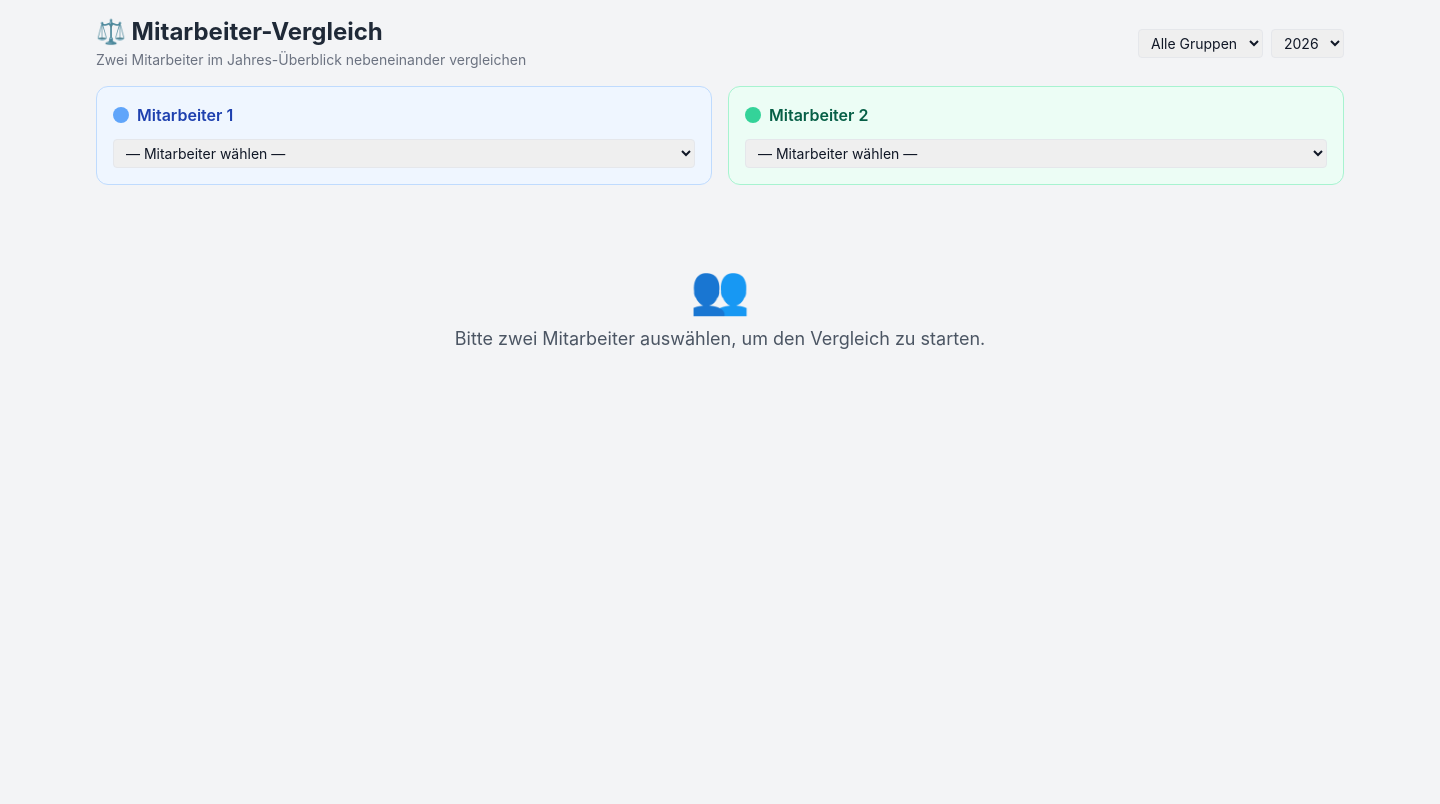
Test: MitarbeiterVergleich — Employee Comparison View › shows statistics section after both employees are selected
Select "Müller, Anna" in the dropdown below "Mitarbeiter 1": (404, 154) [113,139,695,168]
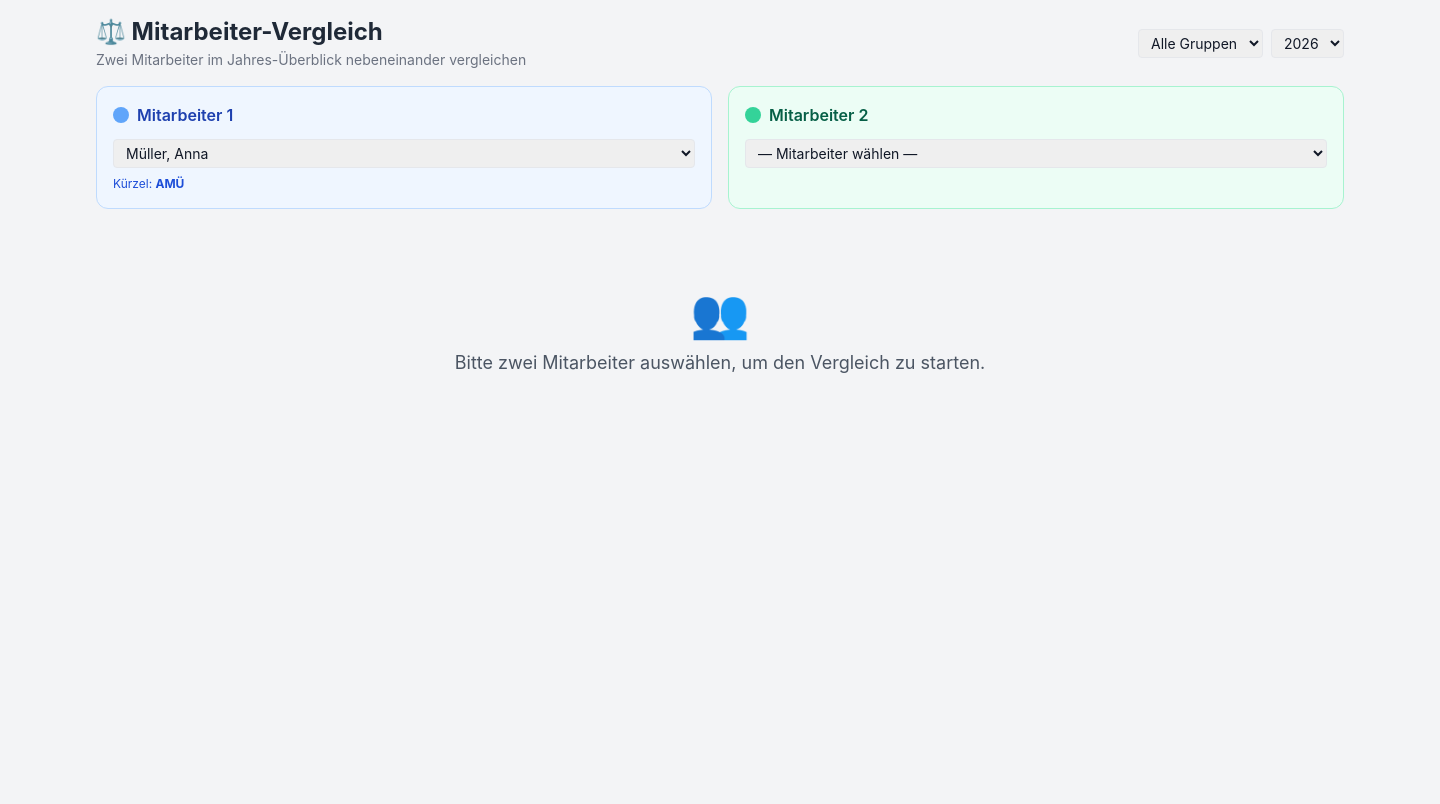
Select "Schmidt, Bernd" in the dropdown below "Mitarbeiter 2": (1036, 154) [745,139,1327,168]
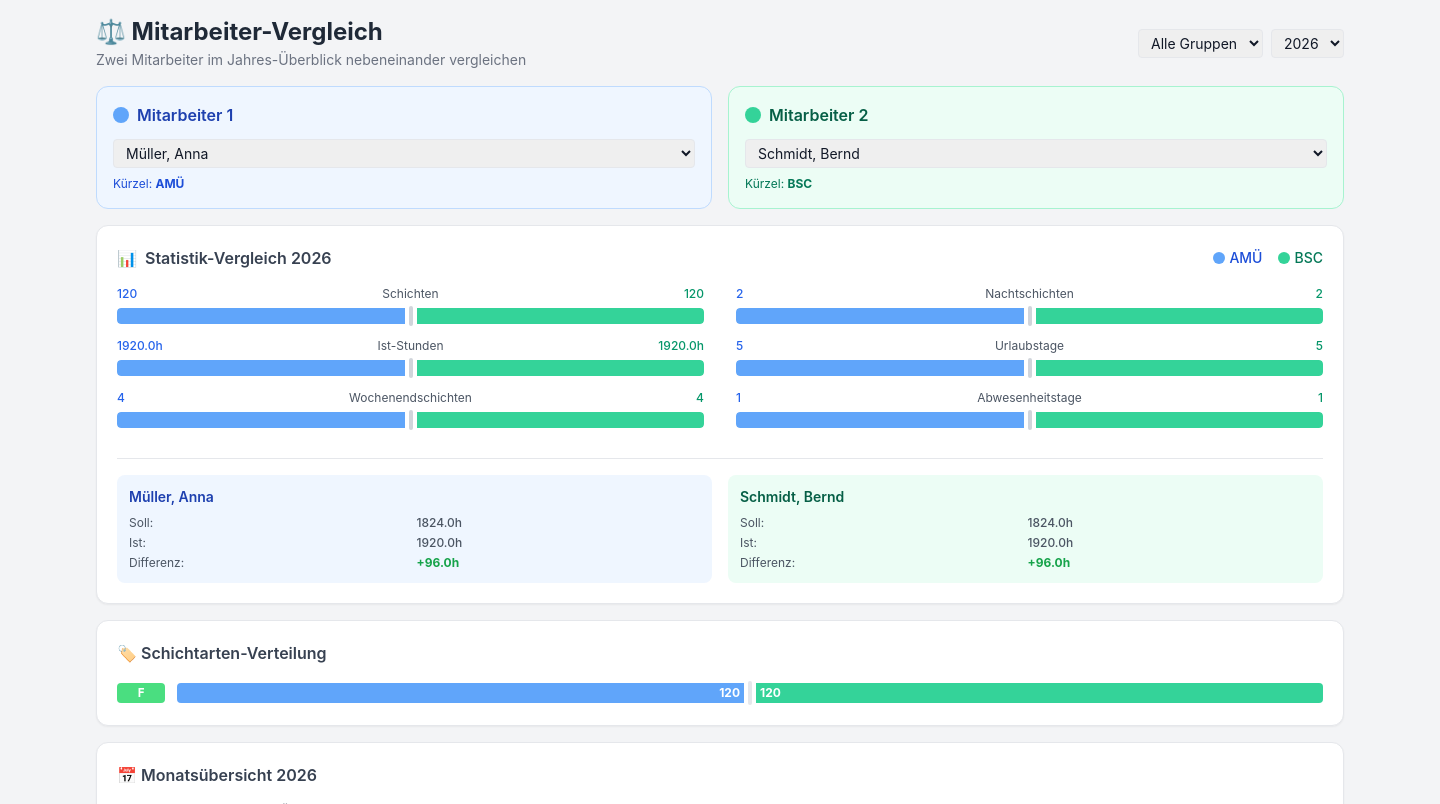
Expected: the text "Statistik-Vergleich 2026" is shown, [145,246,332,270]
